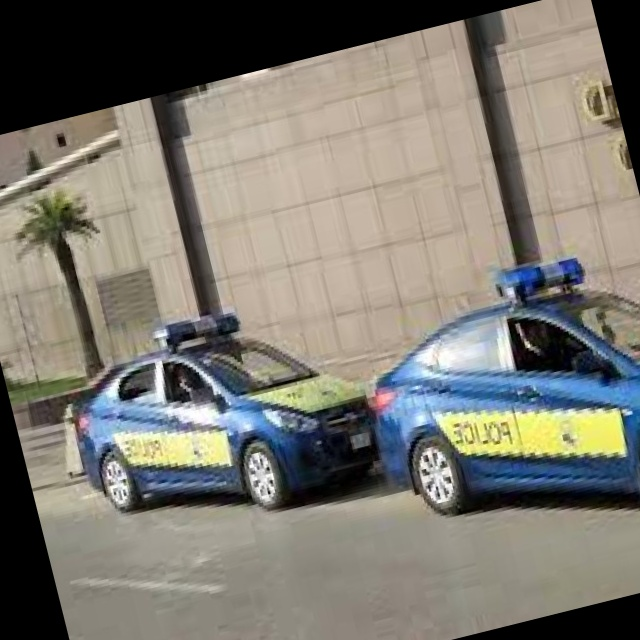police-car: (342, 230, 640, 588), (51, 279, 391, 550)
